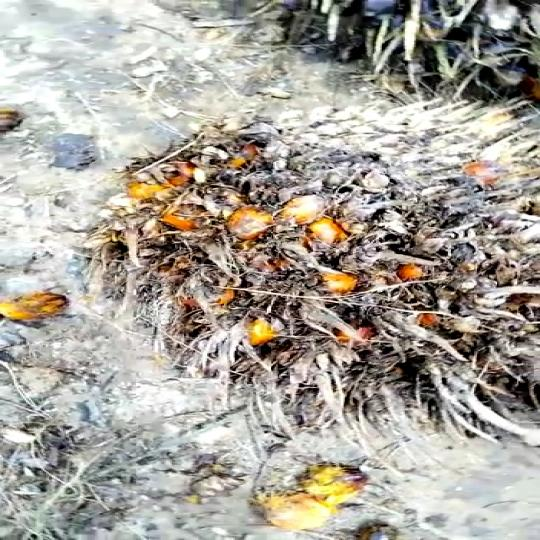terlalu masak: (81, 104, 540, 474)
